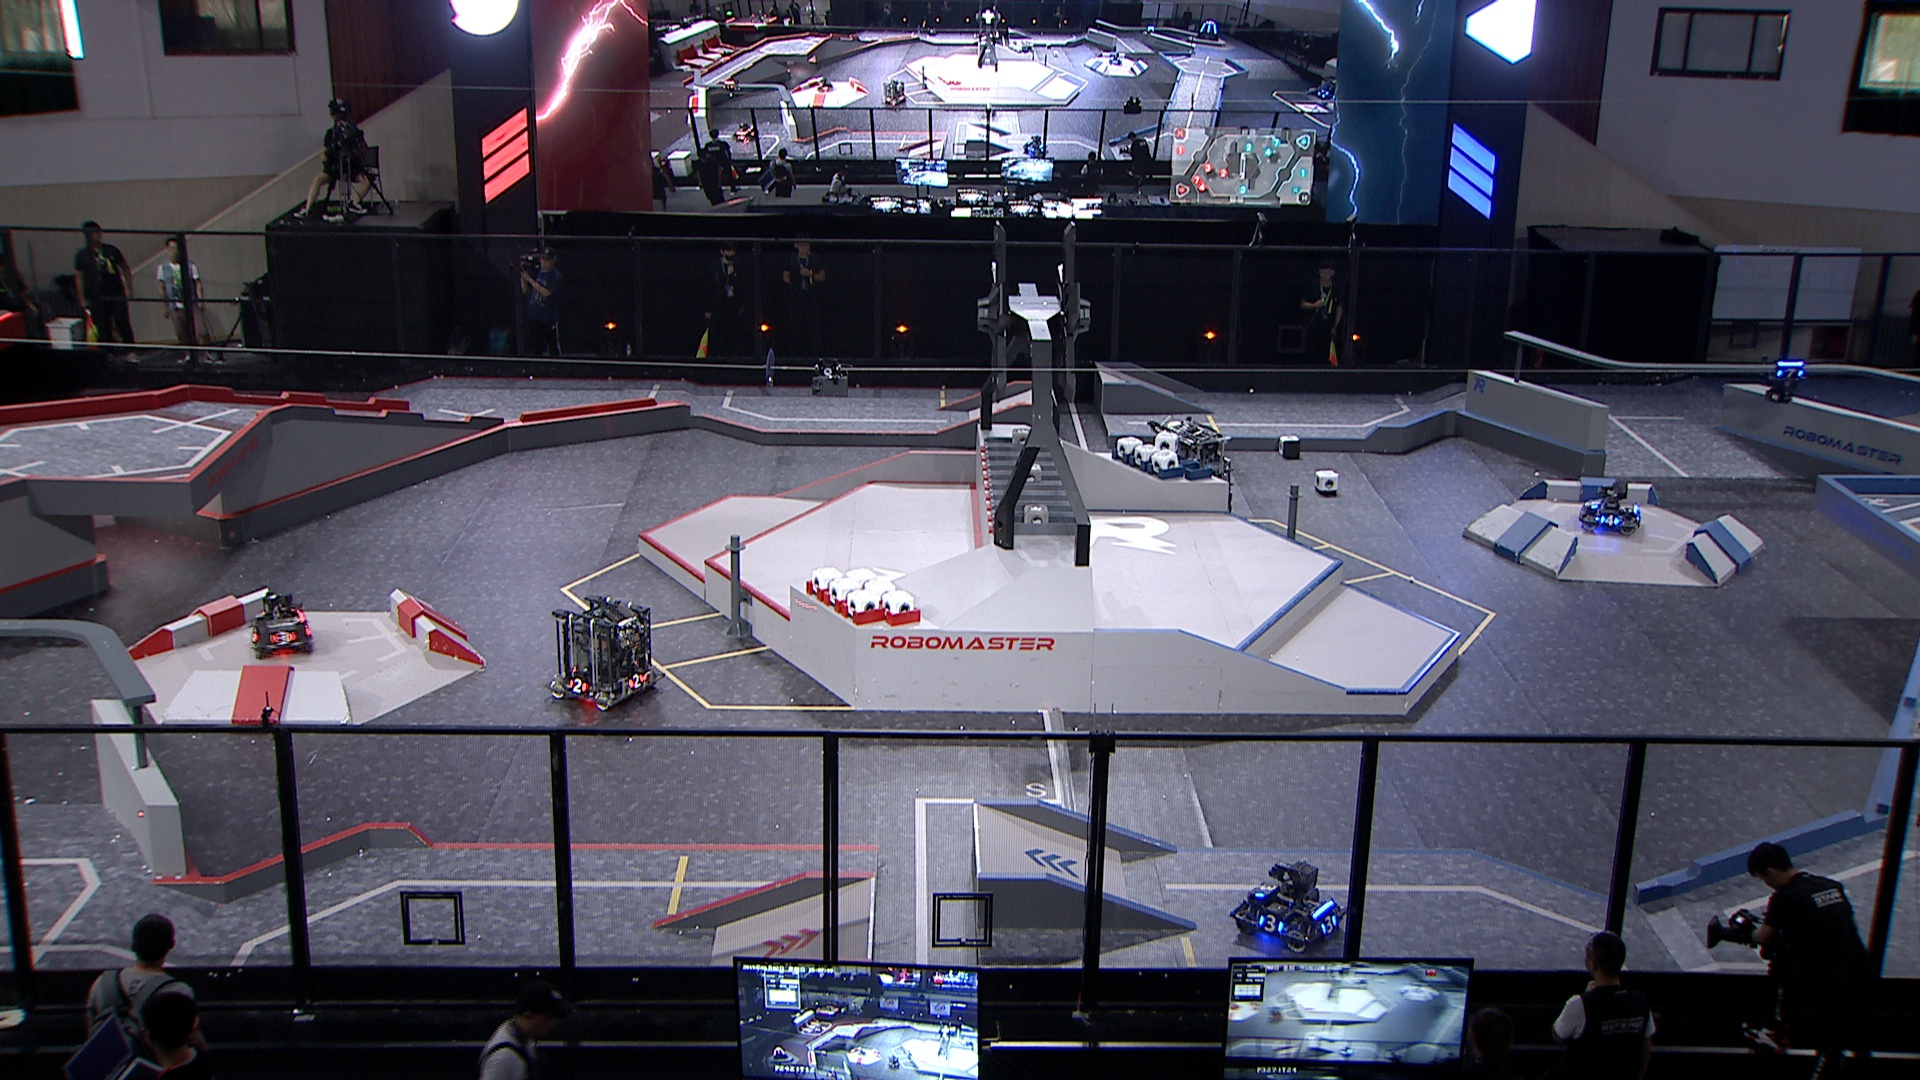armor: (1255, 913, 1284, 936), (1317, 913, 1338, 936), (272, 629, 295, 647), (566, 676, 588, 694), (1774, 367, 1803, 380), (1251, 882, 1276, 897), (626, 673, 646, 690), (1598, 513, 1619, 526)
car: (543, 593, 665, 711), (1228, 860, 1346, 951), (1143, 419, 1233, 520), (247, 589, 314, 657), (1575, 481, 1642, 538)
ignore: (880, 78, 907, 107), (1021, 135, 1048, 157), (1196, 20, 1220, 41), (732, 123, 757, 142), (1313, 79, 1337, 98), (719, 78, 740, 98), (816, 74, 835, 91), (1106, 51, 1125, 67)
watcher: (1760, 353, 1807, 404)
